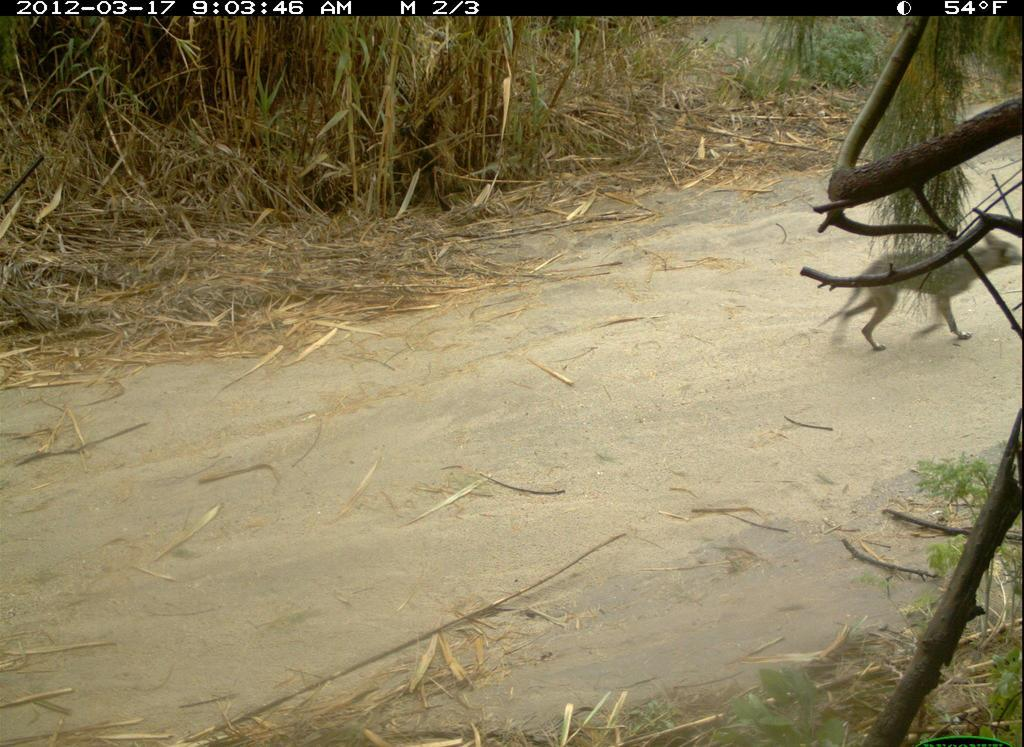coyote: (827, 222, 1022, 350)
